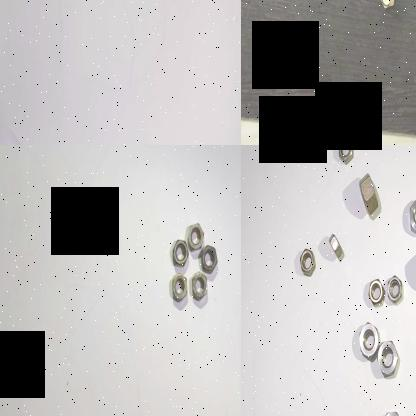Bolts: (376, 0, 396, 13)
NUTS: (354, 319, 380, 362), (376, 338, 400, 380), (298, 243, 318, 281), (188, 268, 207, 306), (327, 230, 346, 266), (198, 242, 219, 272), (385, 273, 403, 307), (184, 220, 204, 250), (170, 236, 190, 266), (170, 270, 187, 304), (366, 277, 384, 309), (407, 191, 416, 234), (335, 145, 355, 164), (379, 403, 403, 416)
